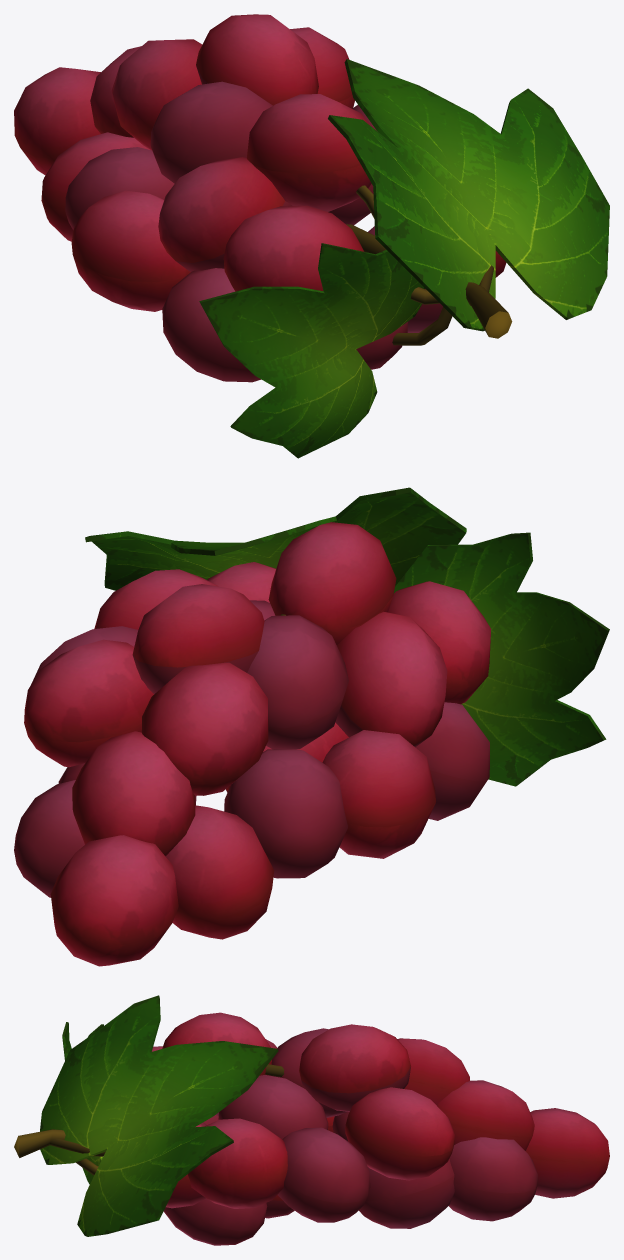
Rendered from Grapes_Red.fbx.
The picture shows the model from 3 angles, top to bottom: view 1: azimuth 30°, elevation 25°; view 2: azimuth 150°, elevation 25°; view 3: azimuth 270°, elevation 25°; orthographic projection. The views are drawn at different scales.
Visible parts, largest first — view 1: Grapes_Red; view 2: Grapes_Red; view 3: Grapes_Red.
Part boxes in pixels (box(x1,y1,x2,y2)): Grapes_Red: box(14, 14, 609, 458); Grapes_Red: box(14, 487, 609, 966); Grapes_Red: box(14, 995, 609, 1245).
Size of the model in its own units: 49.45 by 31.25 by 75.13.
